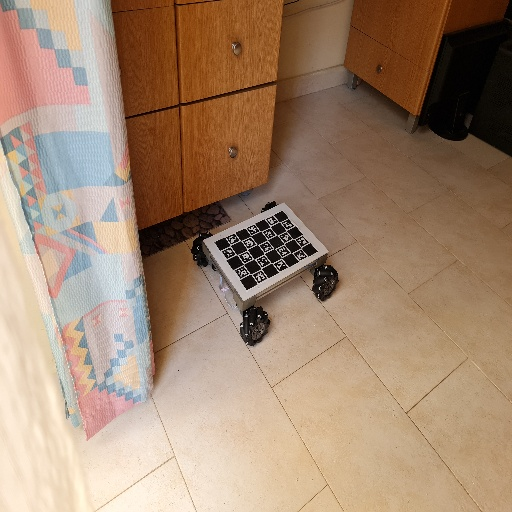Omniwheel: (191, 201, 340, 347)
